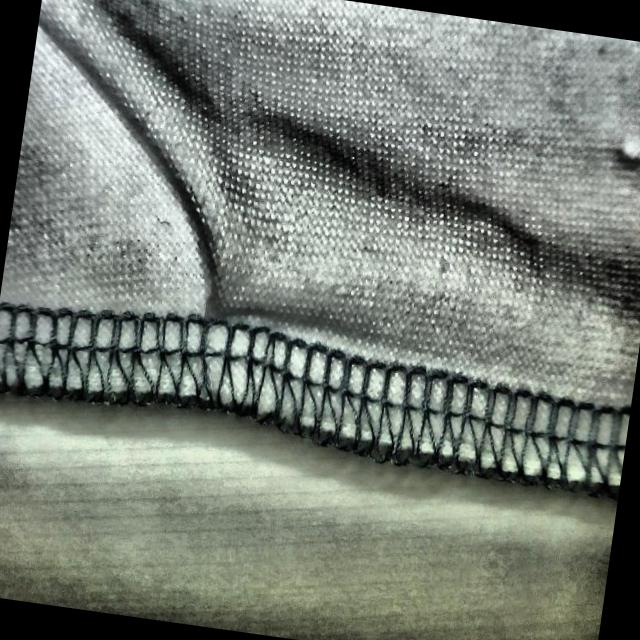gray stitch: (134, 192, 330, 454)
